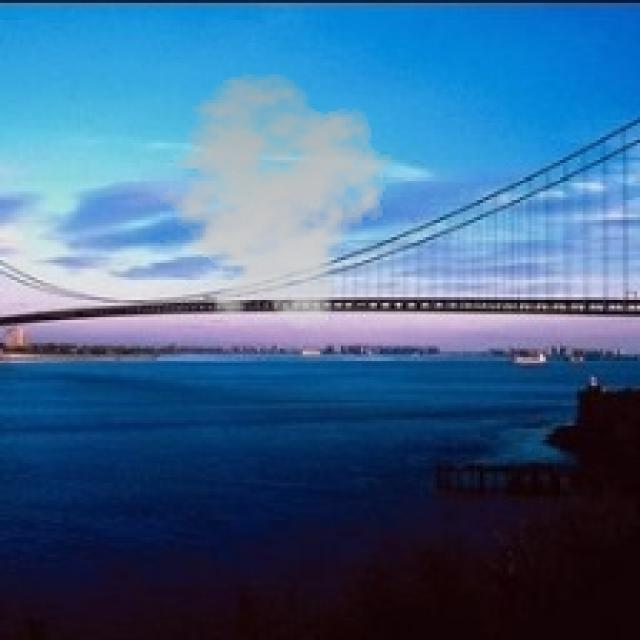Smoke: (146, 71, 400, 332)
